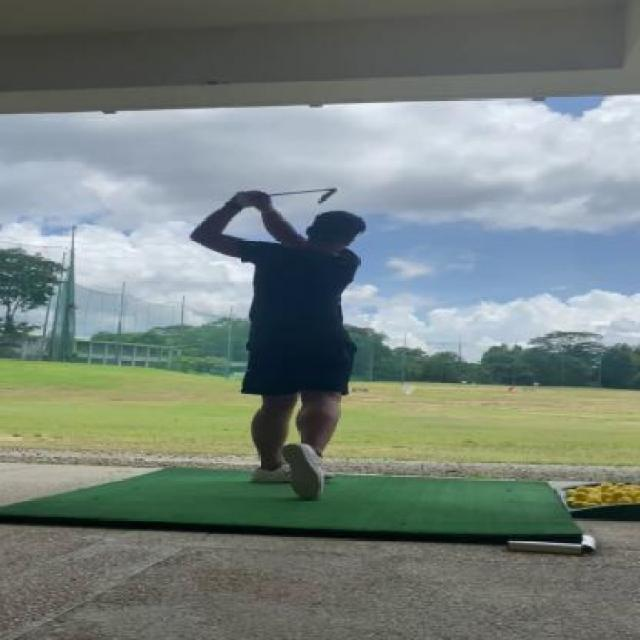club head: (307, 185, 342, 208)
